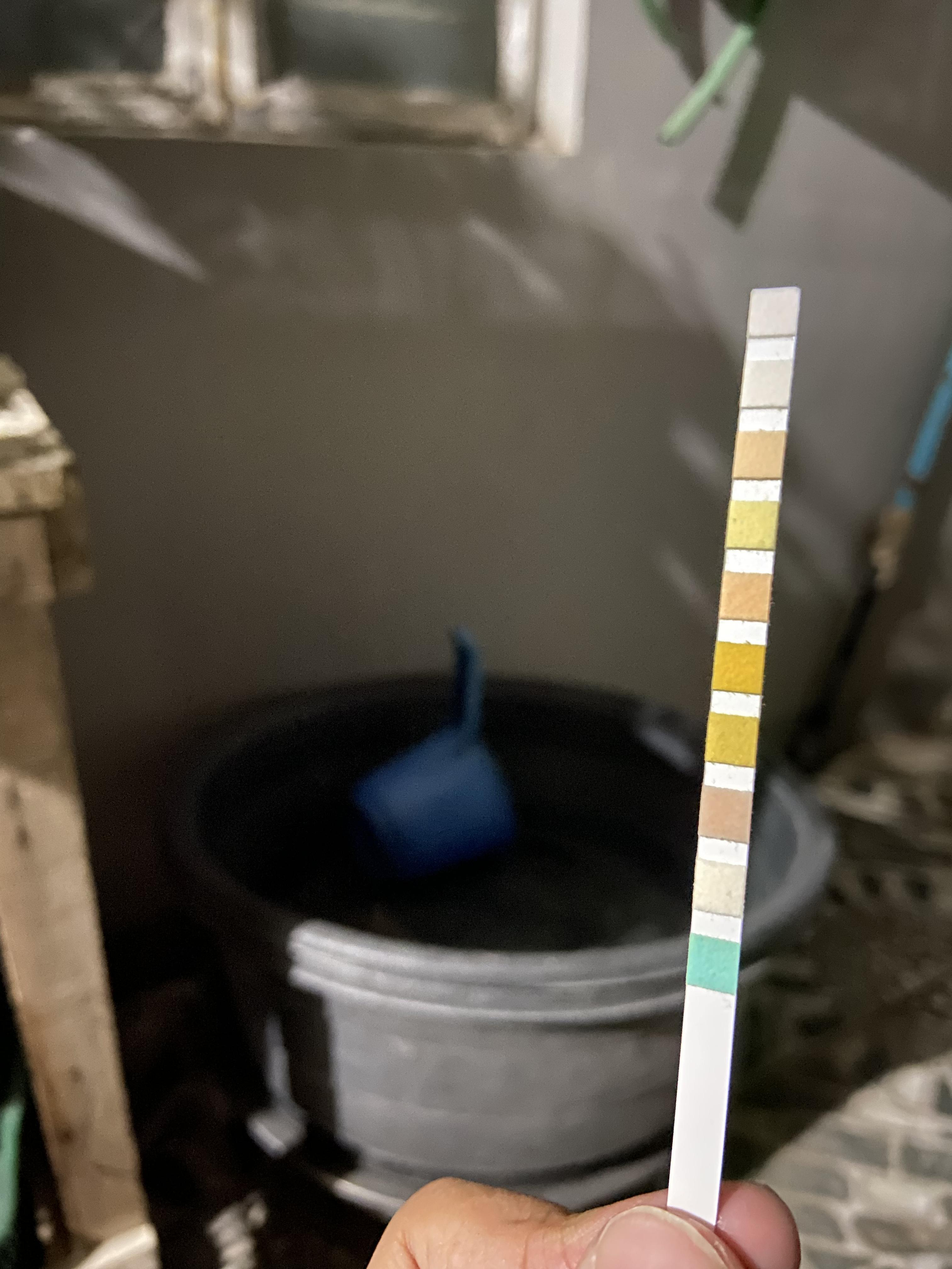Bilirubin: (696, 865, 744, 910)
Blood: (715, 646, 763, 690)
Glucose: (689, 942, 737, 986)
Ketone: (701, 791, 750, 836)
Leukocytes: (751, 290, 797, 335)
Nitrite: (744, 361, 789, 406)
Protein: (729, 501, 776, 548)
SpGravity: (708, 717, 757, 762)
Urobilinogen: (736, 432, 782, 479)
pH: (723, 574, 770, 618)
strip: (667, 288, 801, 1206)
